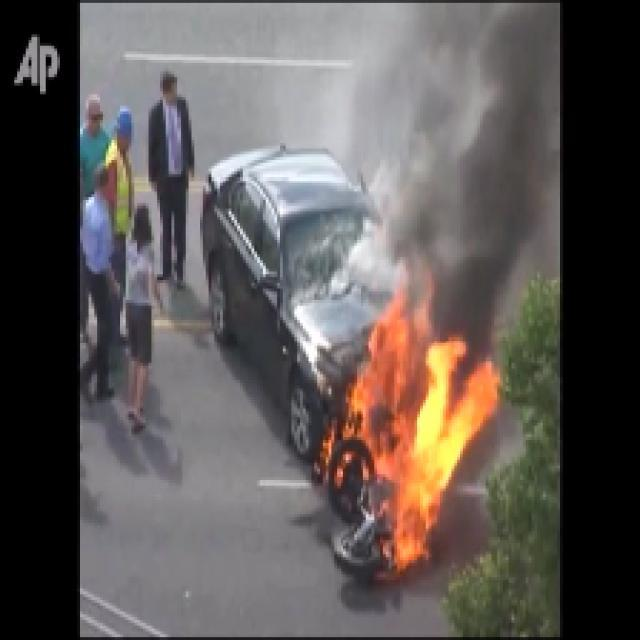Fire: (326, 339, 502, 566)
Smoke: (368, 8, 556, 240)
